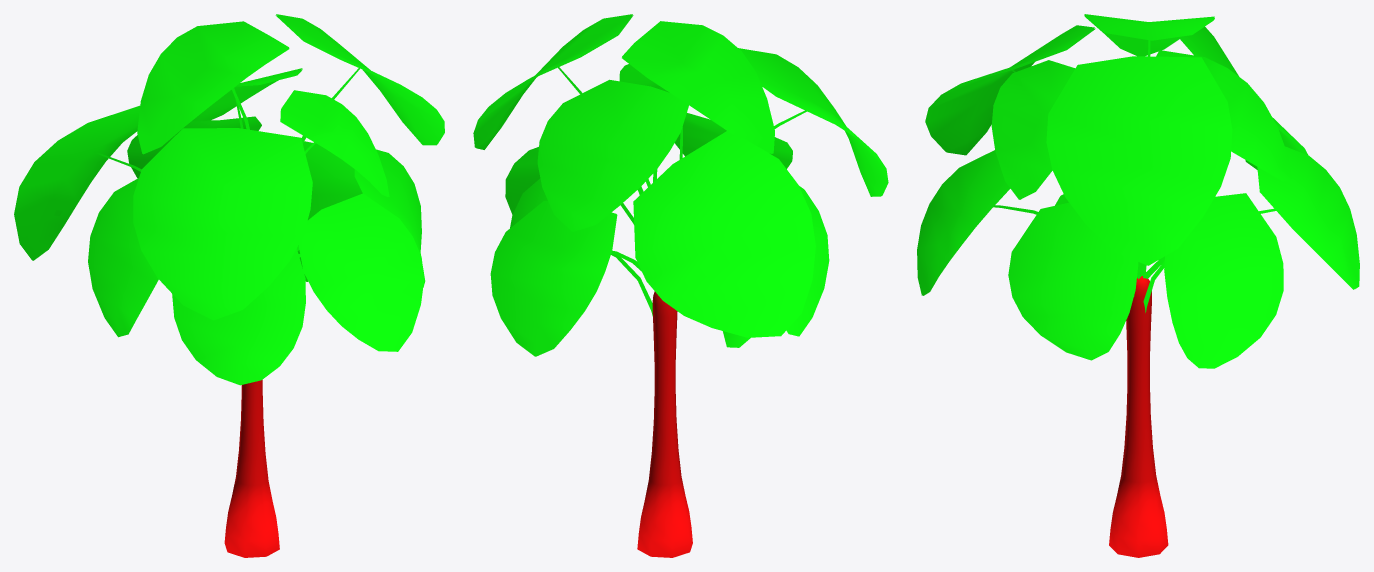
Rendered from PointyPalm_Medium_OneMesh_2018.FBX.
The picture shows the model from 3 angles, left to right: view 1: azimuth 30°, elevation 25°; view 2: azimuth 150°, elevation 25°; view 3: azimuth 270°, elevation 25°; orthographic projection. The views are drawn at different scales.
Visible parts, largest first — view 1: PointyPalmMedium_LOD0; view 2: PointyPalmMedium_LOD0; view 3: PointyPalmMedium_LOD0.
Boxes of the visible parts, x1=… form: PointyPalmMedium_LOD0: x1=14, y1=14, x2=444, y2=557; PointyPalmMedium_LOD0: x1=473, y1=14, x2=888, y2=557; PointyPalmMedium_LOD0: x1=917, y1=14, x2=1359, y2=557.
Size of what is drawn, in the model's own units: 15.93 by 20.88 by 15.98.
